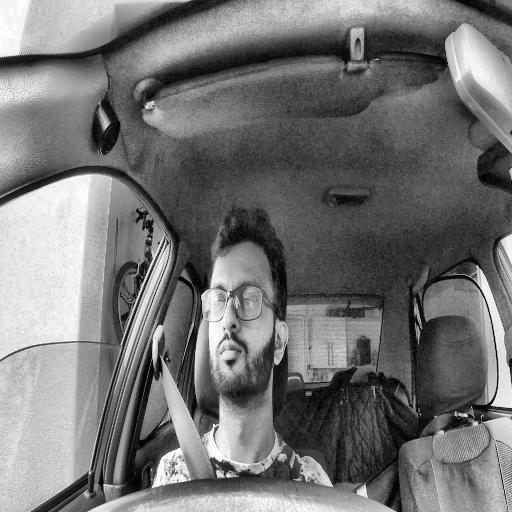awake: (201, 202, 289, 408)
